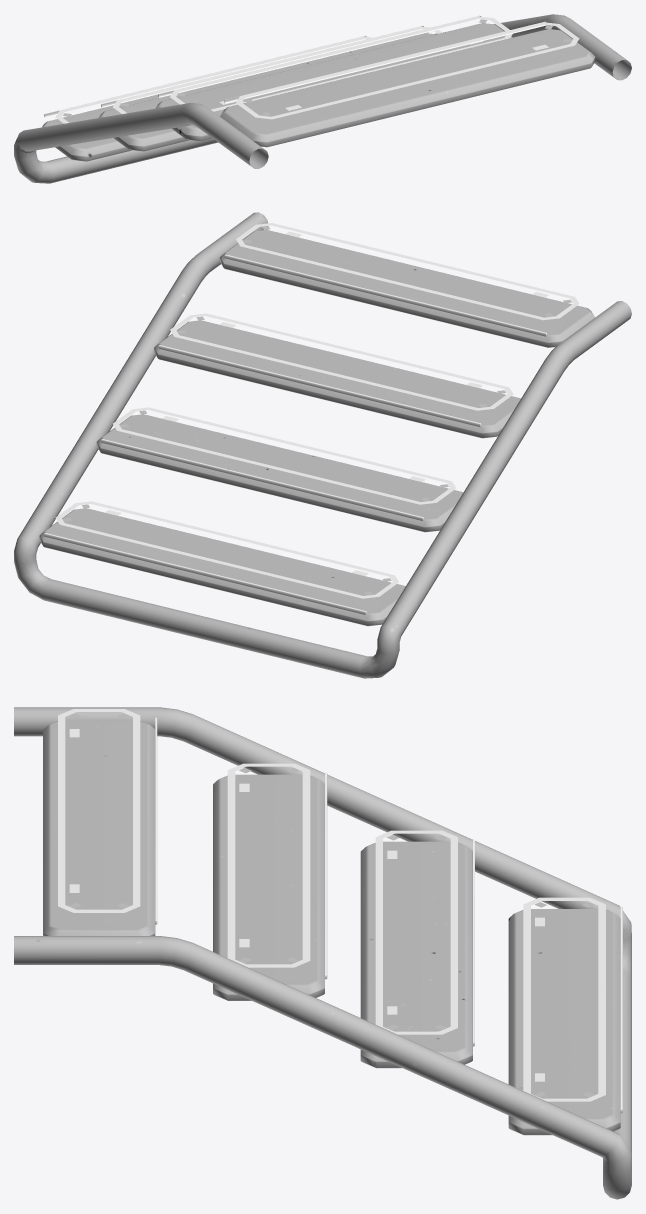
The model's file is SM_Stairs_6_Merged.fbx.
The picture shows the model from 3 angles, top to bottom: view 1: azimuth 30°, elevation 25°; view 2: azimuth 150°, elevation 25°; view 3: azimuth 270°, elevation 25°; orthographic projection. The views are drawn at different scales.
Parts seen in each view (by area): view 1: SM_Stairs_6_Merged_LOD0; view 2: SM_Stairs_6_Merged_LOD0; view 3: SM_Stairs_6_Merged_LOD0.
Part boxes in pixels (x1=…): SM_Stairs_6_Merged_LOD0: x1=14, y1=14, x2=631, y2=183; SM_Stairs_6_Merged_LOD0: x1=14, y1=212, x2=631, y2=678; SM_Stairs_6_Merged_LOD0: x1=14, y1=707, x2=631, y2=1199.
Size of the model in its own units: 180 by 195 by 99.08.
